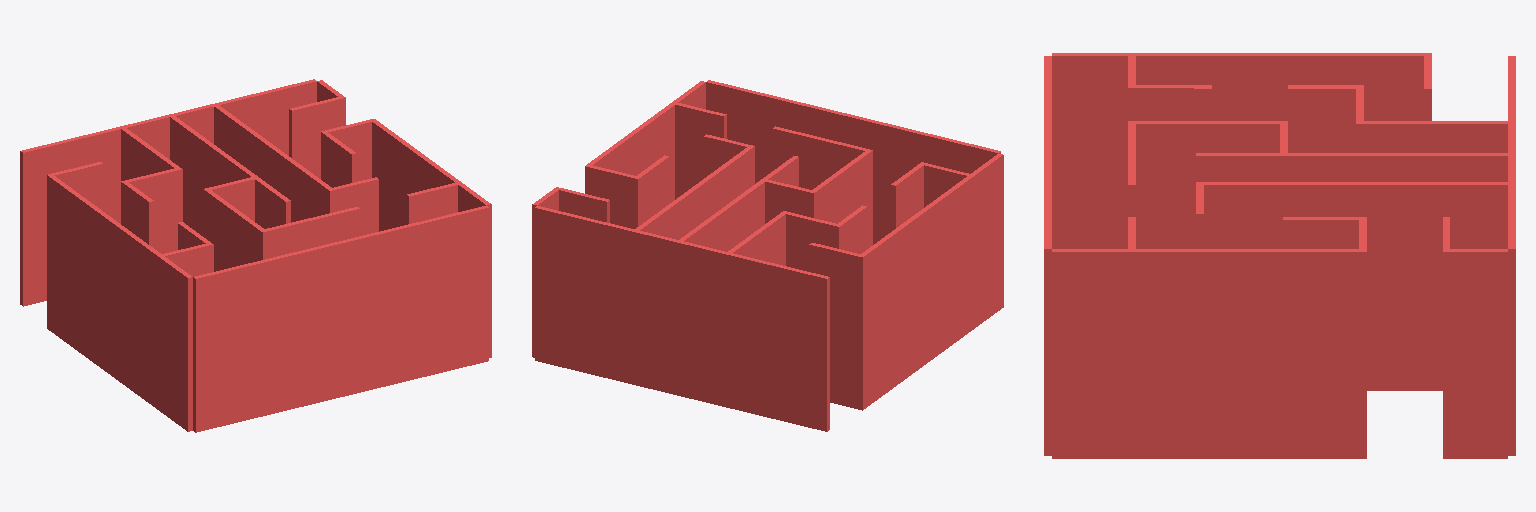
The robot description file, URDF, robot "maze.urdf":
<?xml version="1.0" ?>
<robot name="maze.urdf">
  <link concave="yes" name="baseLink">

    <inertial>
      <origin rpy="1.57075 0 0" xyz="0.0 0.0 0.0"/>
       <mass value=".0"/>
       <inertia ixx="1" ixy="0" ixz="0" iyy="1" iyz="0" izz="1"/>
    </inertial>

    <visual>
      <origin rpy="1.57075 0 0" xyz="0 0 0"/>
      <geometry>
        <mesh filename="maze.obj" scale=".1 .1 .1"/>
      </geometry>
      <material name="red">
        <color rgba="1 0.4 0.4 1"/>
      </material>
    </visual>

    <collision concave="yes">
      <origin rpy="1.57075 0 0" xyz="0 0 0"/>
      <geometry>
	 	    <mesh filename="maze.obj" scale=".1 .1 .1"/>
      </geometry>
    </collision>
  </link>
</robot>

--- What the picture shows (computed from the rendered views, not written in the file) ---
3 views of the same robot in one strip: view 1: azimuth 30°, elevation 25°; view 2: azimuth 150°, elevation 25°; view 3: azimuth 270°, elevation 25° (orthographic).
Robot: maze.urdf — 1 links, 0 joints (none); root link baseLink; default pose: all joints at 0.
Visible links, largest first — view 1: baseLink; view 2: baseLink; view 3: baseLink.
Boxes of the visible links, left/top/right/bottom form: baseLink: left=20, top=79, right=491, bottom=432; baseLink: left=532, top=80, right=1003, bottom=431; baseLink: left=1044, top=53, right=1515, bottom=458.
Size in the robot's own frame: 6.2 by 6.2 by 3 metres.
1 mesh visuals loaded from 1 distinct referenced files (1 OBJ).